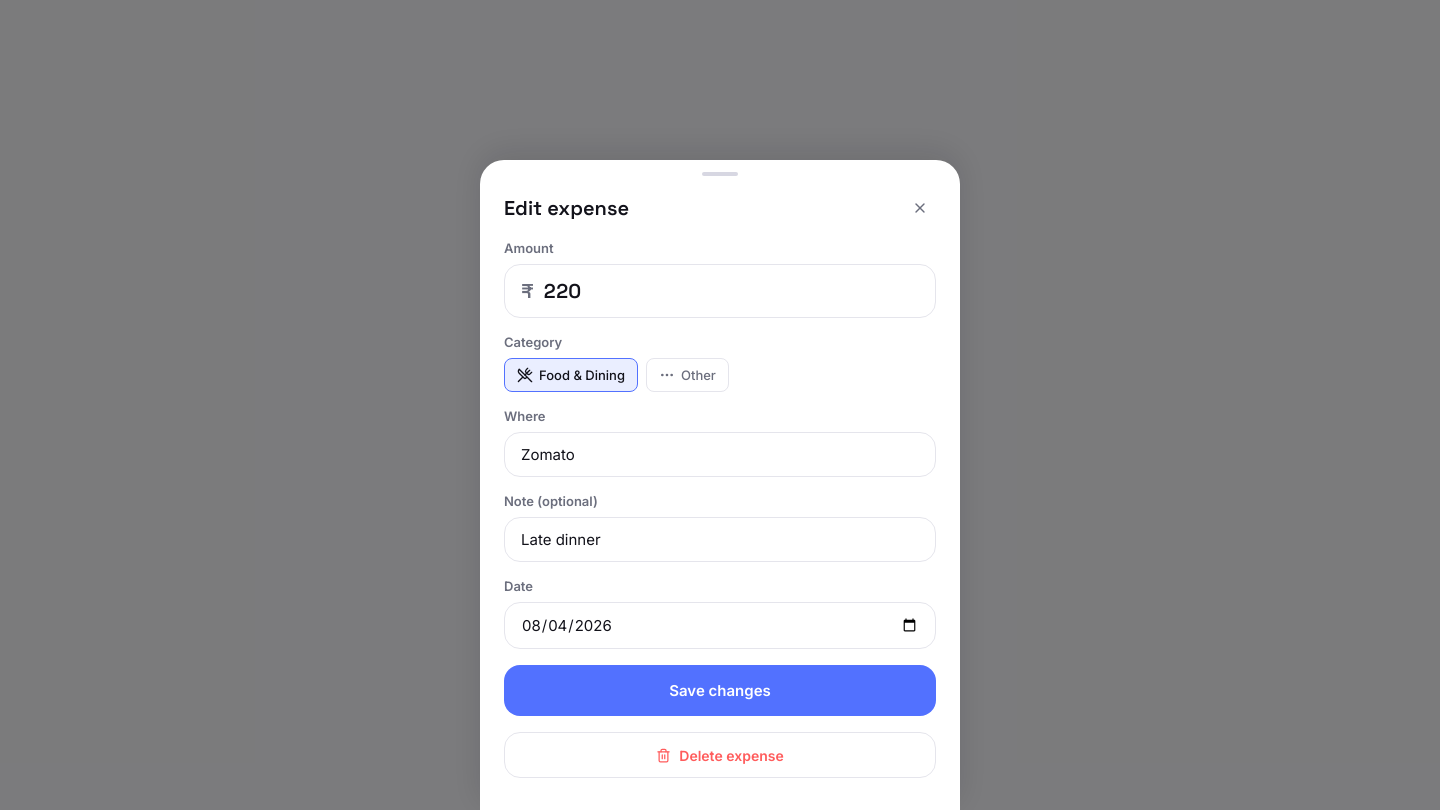
Test case: AddExpenseSheet — editing › keeps the sheet open and explains a failed save
Click the button "Save changes" at (720, 690), box [504,665,936,716]
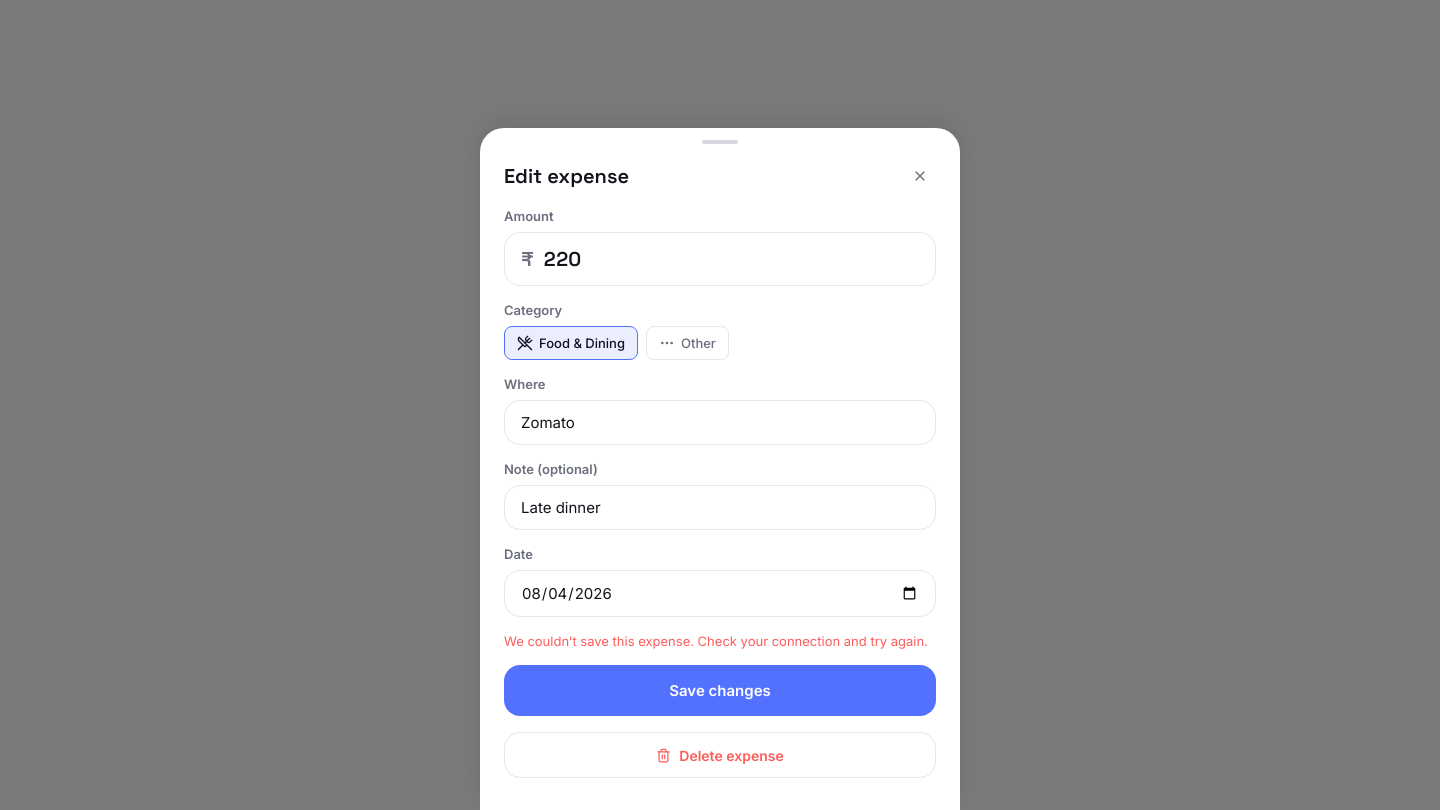
Expected: the text "couldn’t save this expense" is shown, [504,633,928,649]
